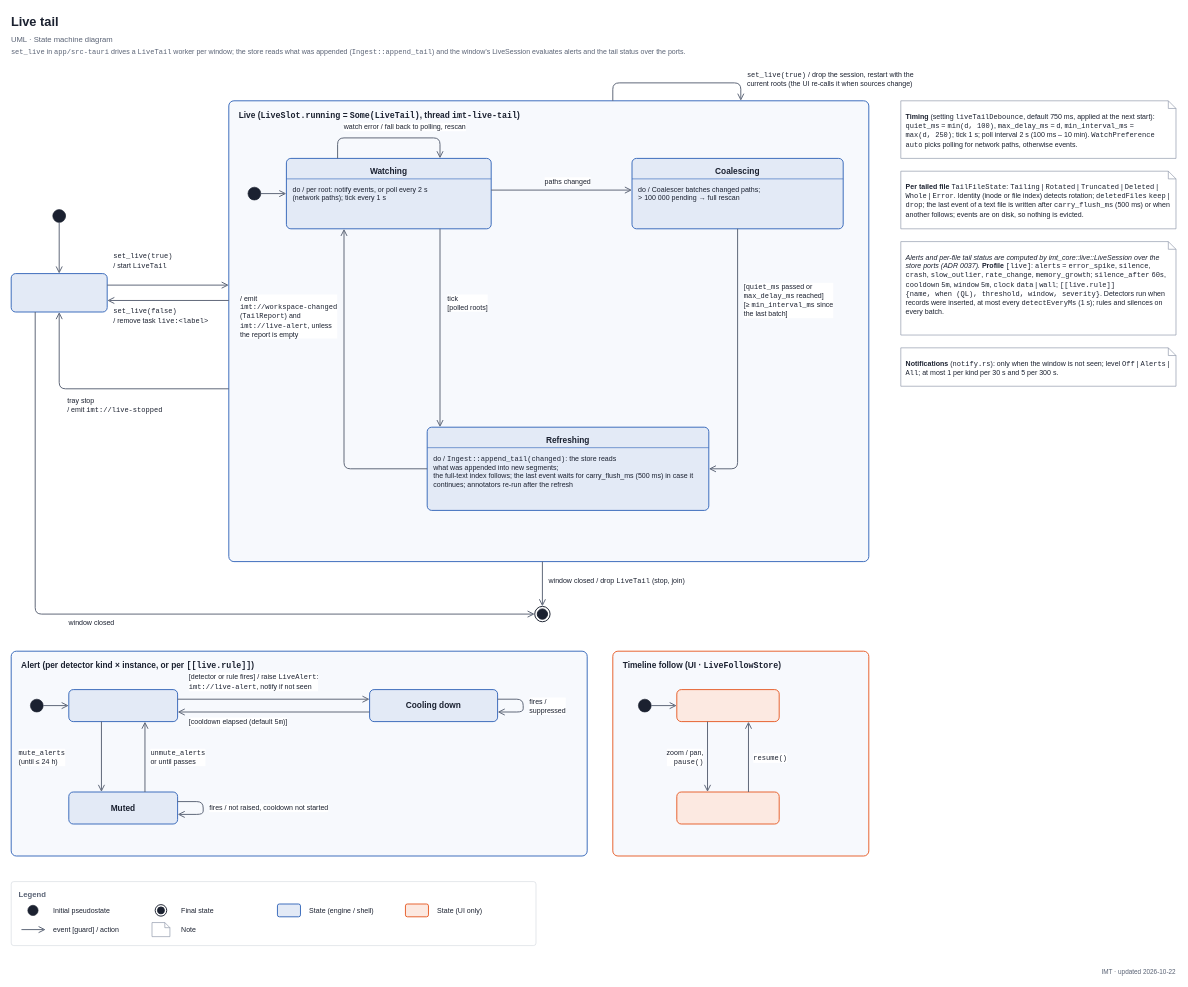
The diagram is 1188 pixels wide and 987 high, and some of its shapes have lost their labels. The shapes that lost their labels are listed below. From the top down, each one's centre as x and y in pixels, then its label:
At (58,292): "Off".
At (123,705): "Armed".
At (727,705): "Following".
At (727,807): "Holding".
